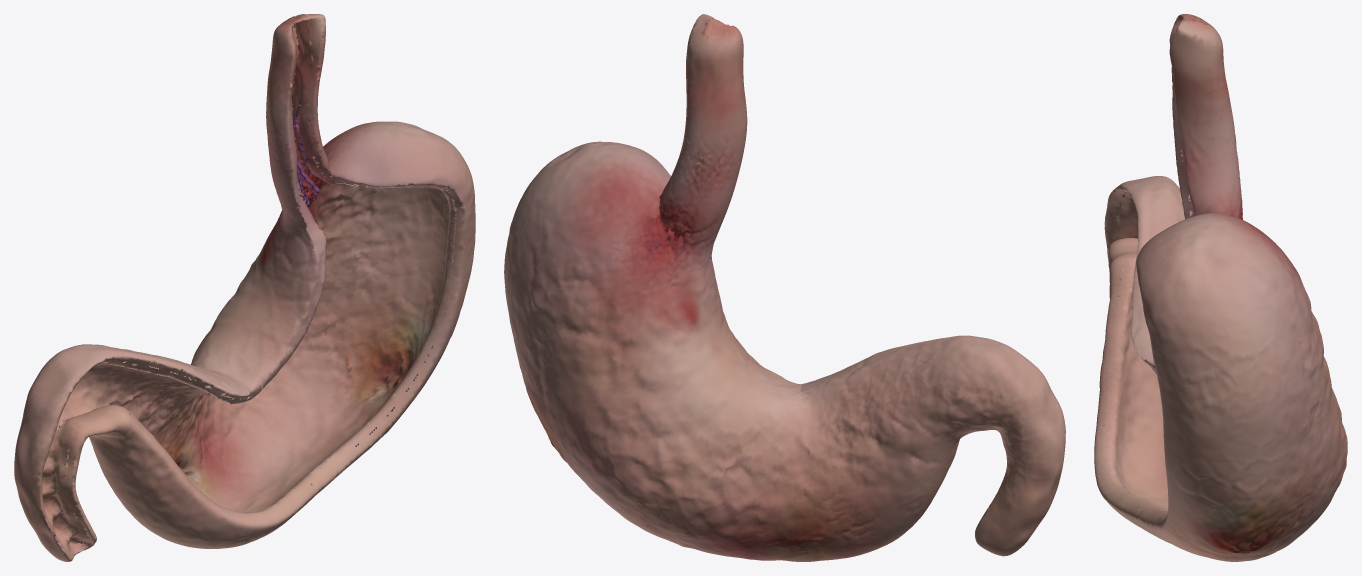
The model's file is Stomach.glb.
3 renders of one model, left to right at view 1: azimuth 30°, elevation 25°; view 2: azimuth 150°, elevation 25°; view 3: azimuth 270°, elevation 25°, orthographic. The views are drawn at different scales.
Parts seen in each view (by area): view 1: Stomach; view 2: Stomach; view 3: Stomach.
Boxes of the visible parts, x1,y1,x2,y2 form: Stomach: (14,14,475,561); Stomach: (504,14,1065,561); Stomach: (1094,14,1347,561).
Size of the model in its own units: 0.2771 by 0.2696 by 0.1124.
